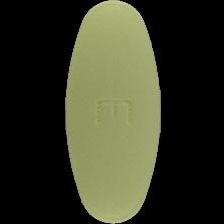63739-529: (0, 0, 224, 224)
